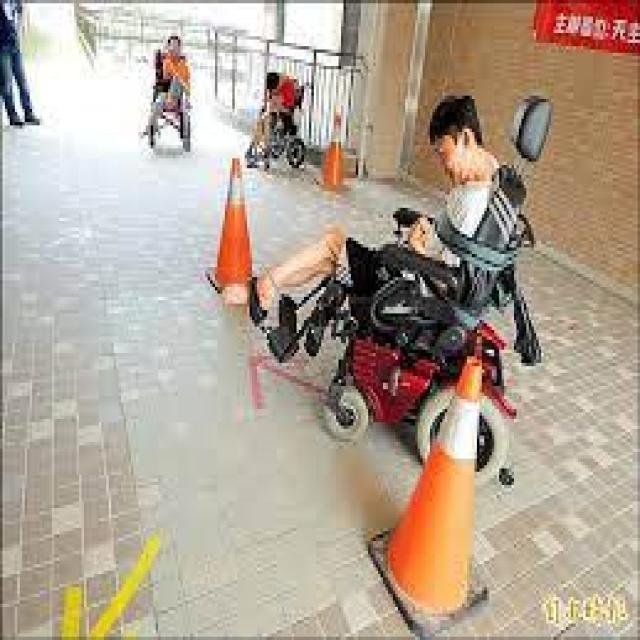wheelchairs: (301, 89, 556, 538)
